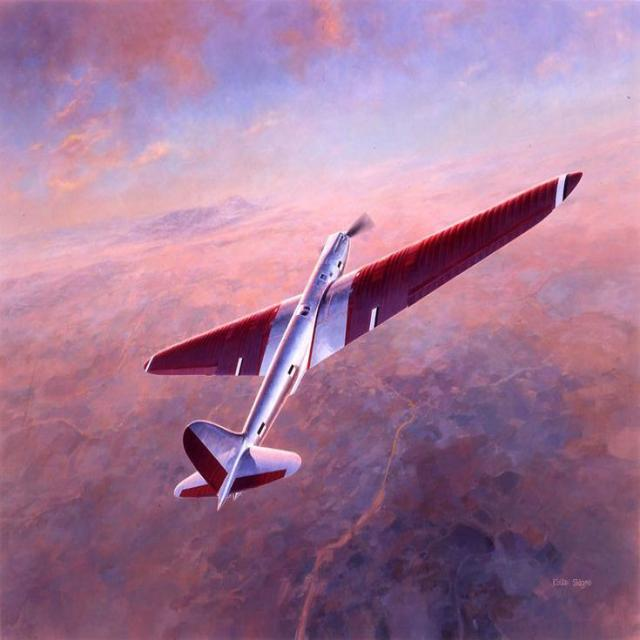iha: (141, 168, 585, 511)
